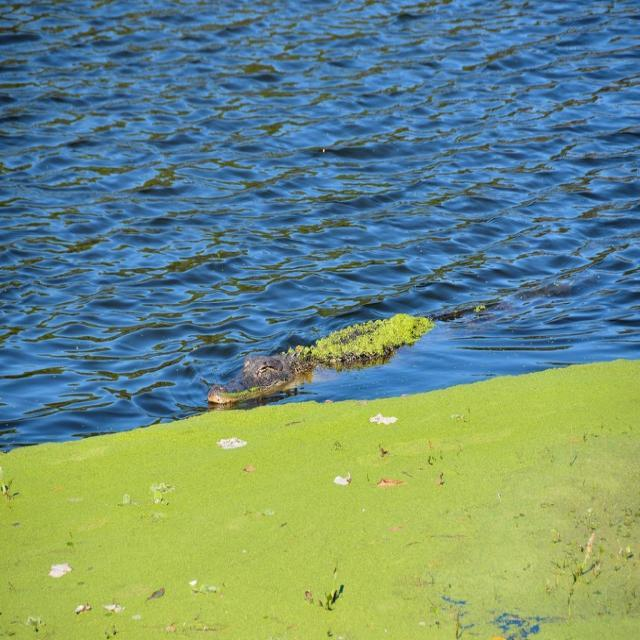crocodile: (171, 282, 526, 438)
